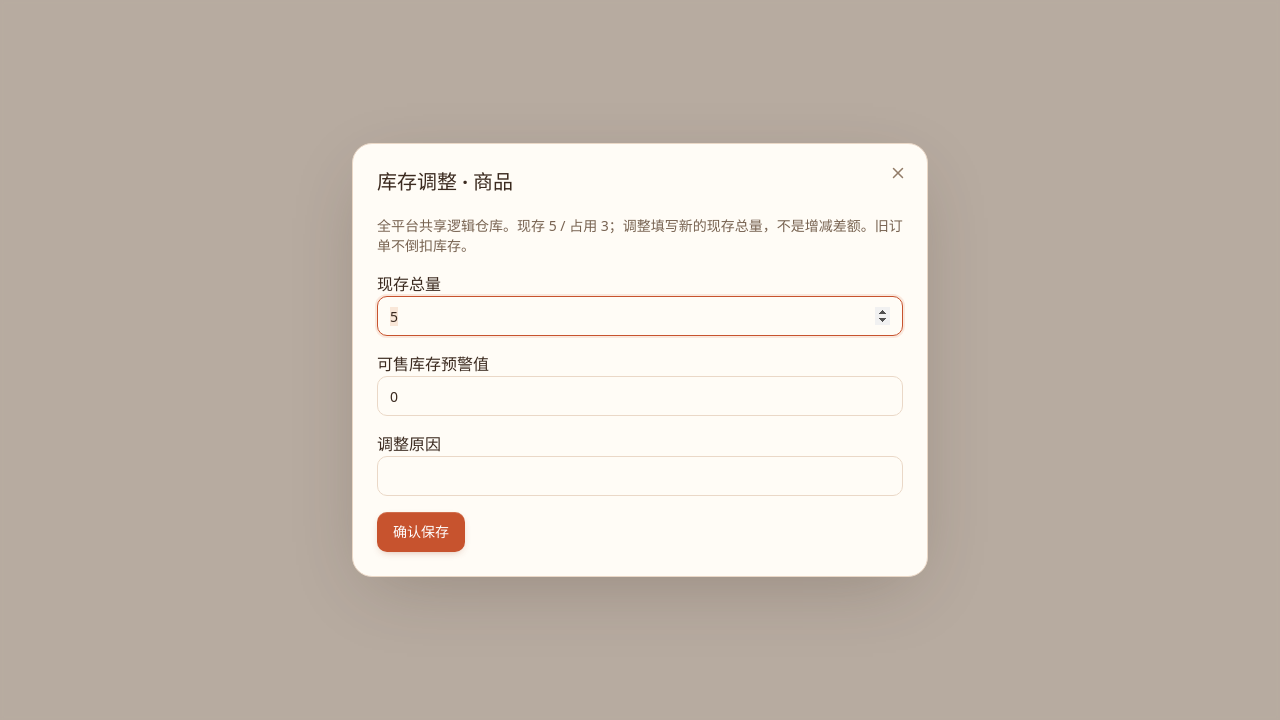
it: 拒绝手工减少到占用量以下
The width and height of the screenshot is (1280, 720).
Replace the text in the number field labelled "现存总量" with "2" at (640, 316), box 377,296 -> 903,336
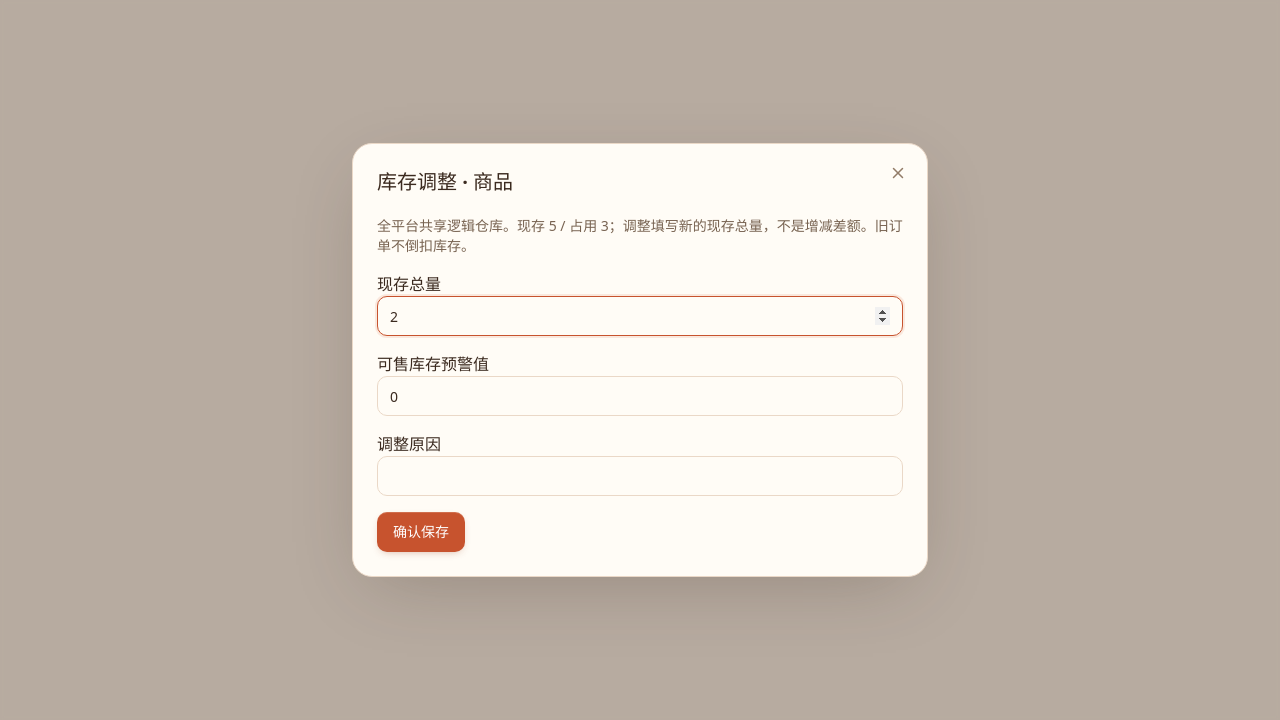
Type "盘点" into the field labelled "调整原因".
click(640, 476); type("盘点")  # box 377,456 -> 903,496
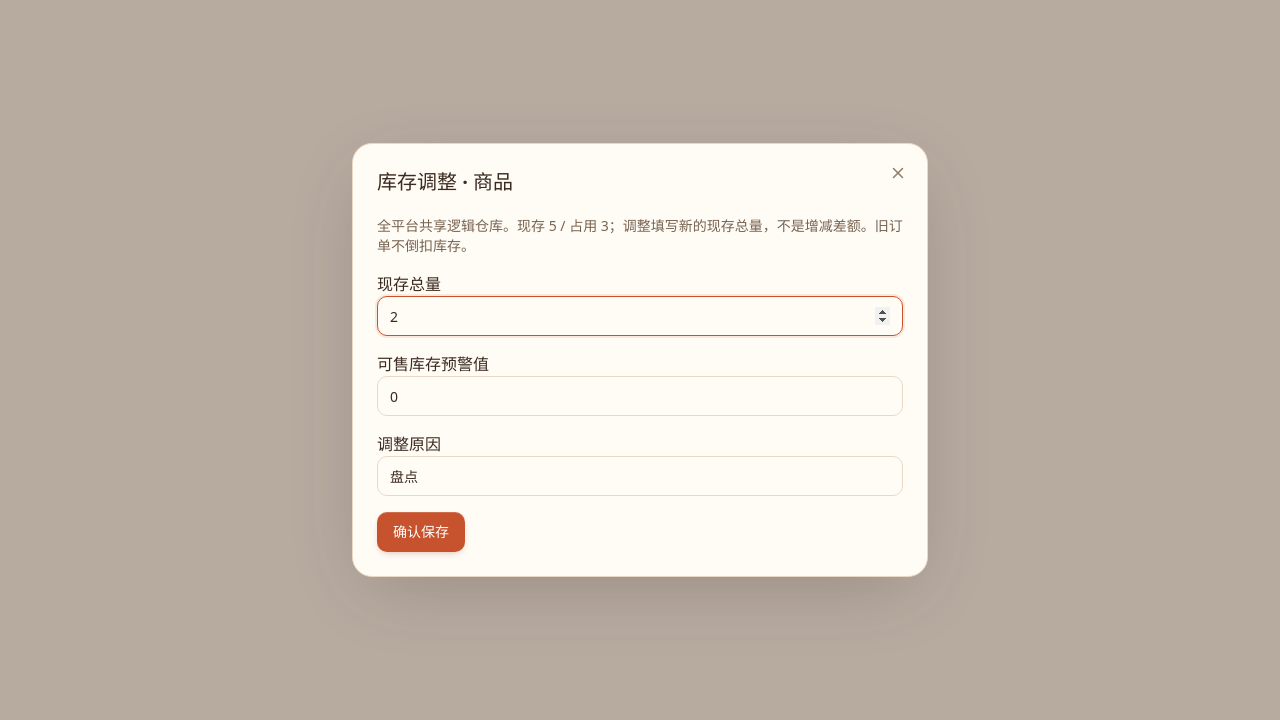
Click the button "确认保存".
click(421, 532)  # box 377,512 -> 465,552
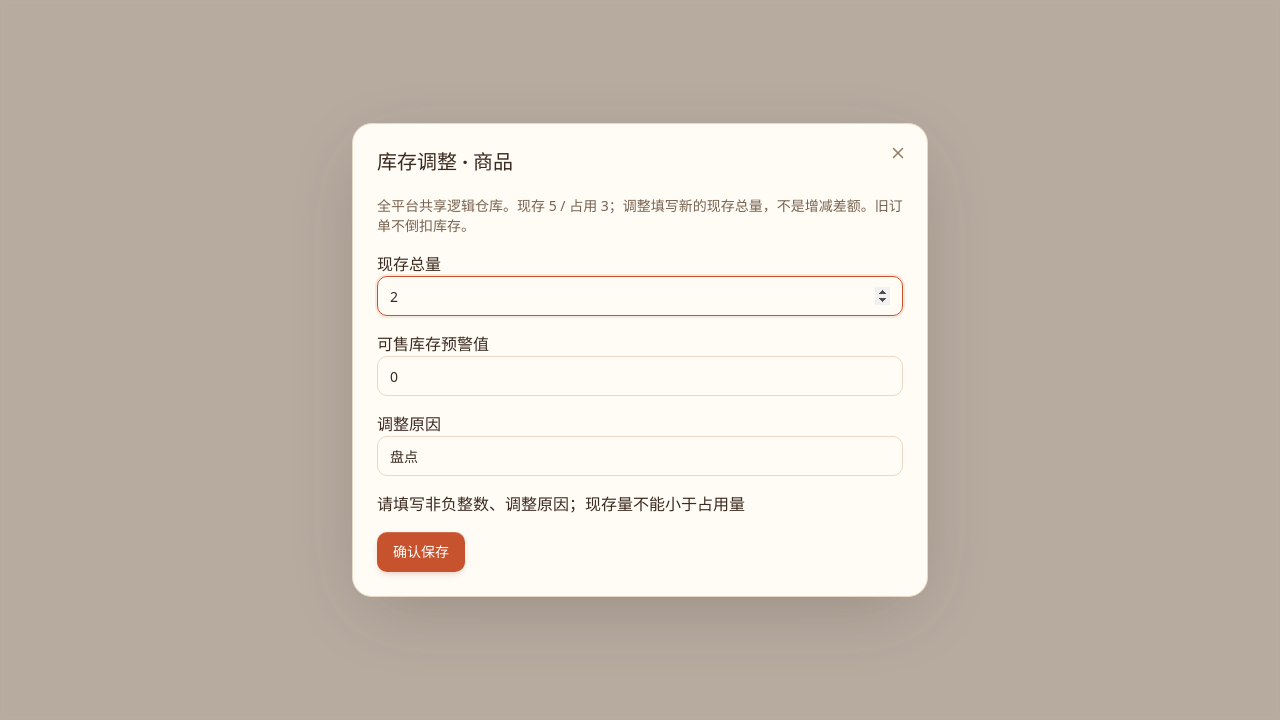
Expected: the message shows "占用量", 377,493 -> 745,515
